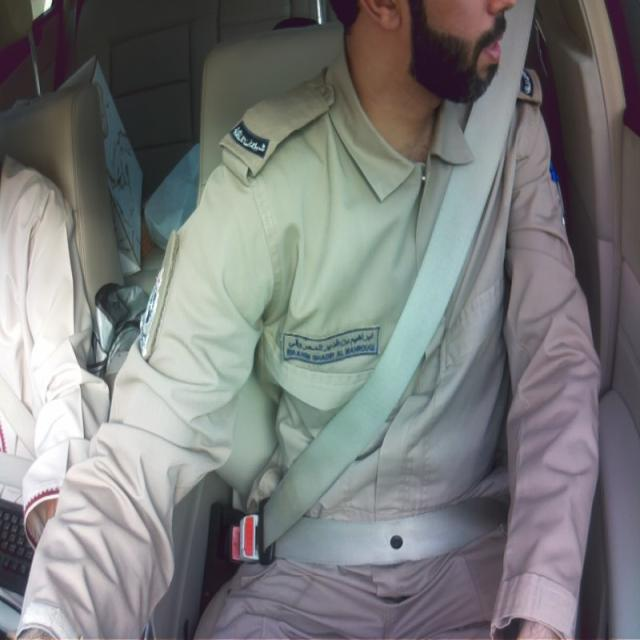seatbelt: (231, 2, 533, 564)
